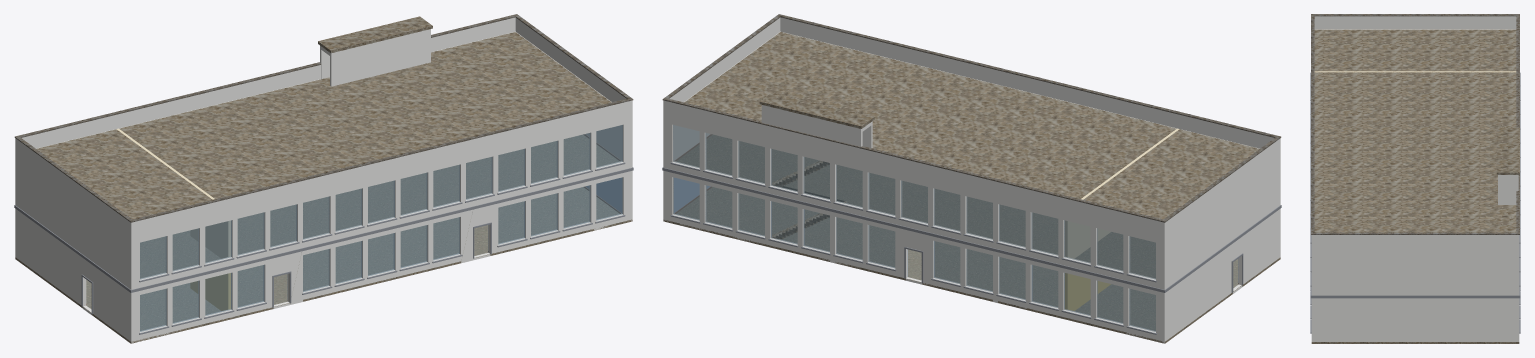
File: air-terminal.glass-v1.lod0.glb
The picture shows the model from 3 angles, left to right: view 1: azimuth 30°, elevation 25°; view 2: azimuth 150°, elevation 25°; view 3: azimuth 270°, elevation 25°; orthographic projection. The views are drawn at different scales.
Visible parts, largest first — view 1: air-terminal; view 2: air-terminal; view 3: air-terminal.
Boxes of the visible parts, x1,y1,x2,y2 form: air-terminal: (14, 14, 633, 343); air-terminal: (662, 14, 1281, 343); air-terminal: (1310, 14, 1520, 343).
Size of the model in its own units: 40.12 by 10.97 by 16.2.
Materials: 4 (2 with a texture image).
